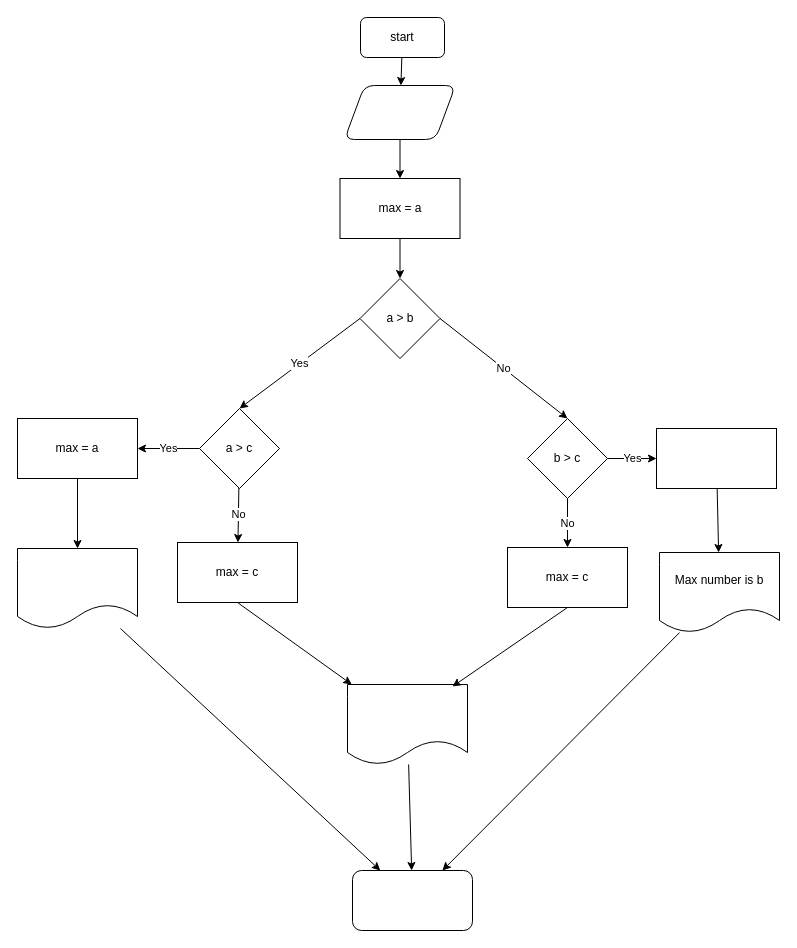
The diagram is 797 pixels wide and 948 high, and some of its shapes have lost their labels. Each missing label, with the centre of its shape:
"a,b,c" goes at point 400,112.
"end" goes at point 412,900.
"max = b" goes at point 716,458.
"Max number is a" goes at point 77,588.
"Max number is c" goes at point 407,724.
